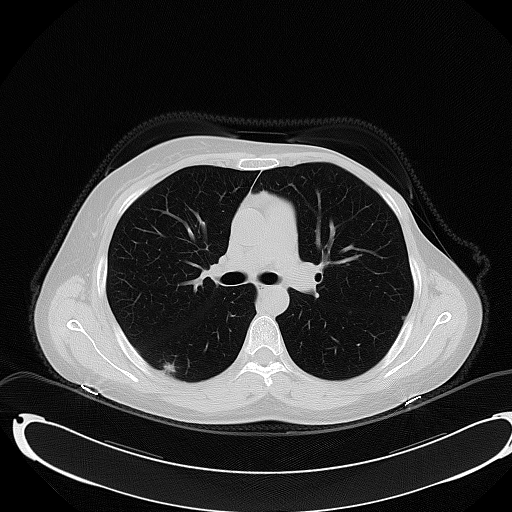nodule: (162, 361, 176, 375)
